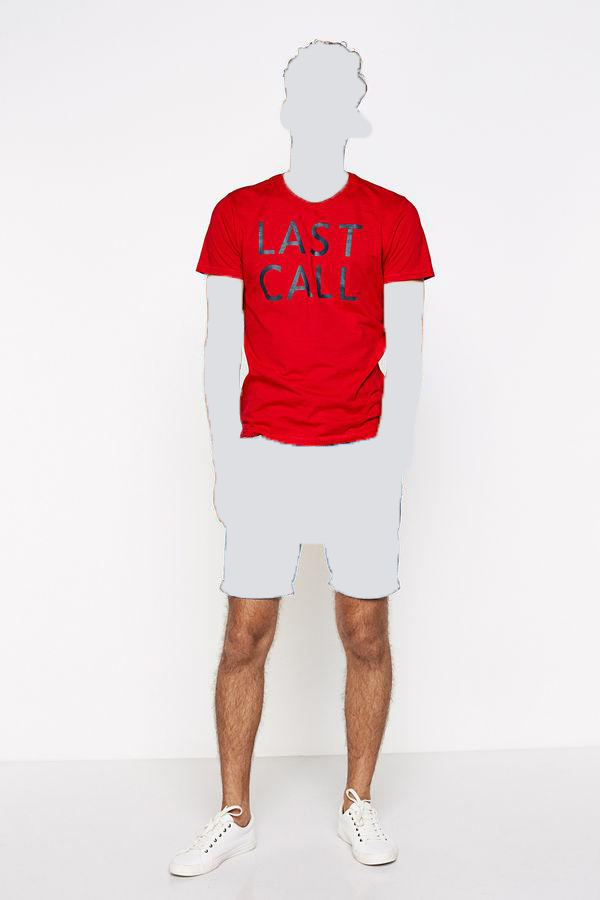teeshirt: (186, 170, 453, 445)
